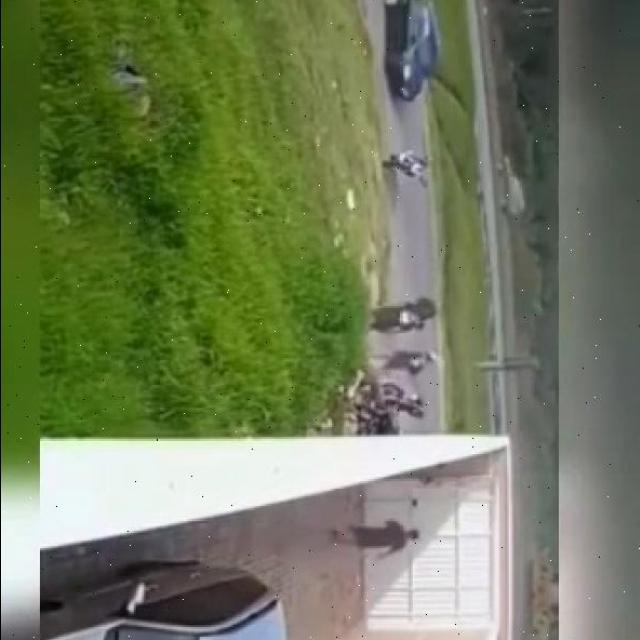accident: (337, 379, 425, 441)
